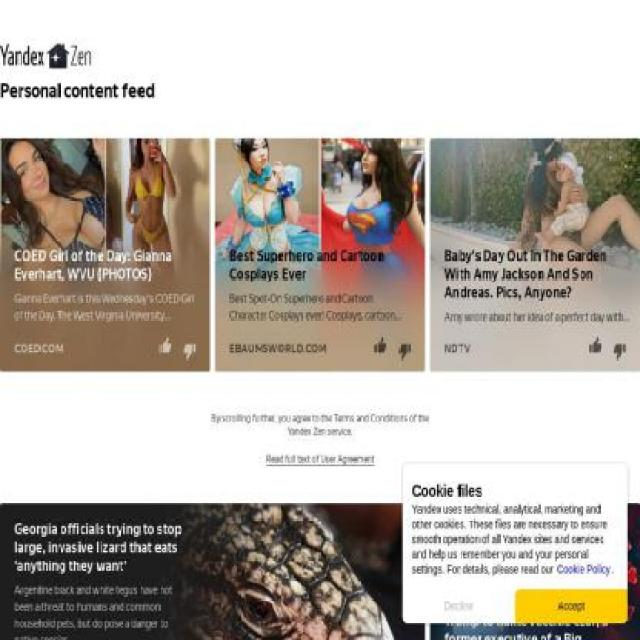button: (402, 589, 515, 623), (515, 589, 628, 623), (266, 453, 374, 465), (0, 43, 48, 69), (47, 44, 93, 68), (556, 560, 612, 578), (11, 605, 32, 623)
